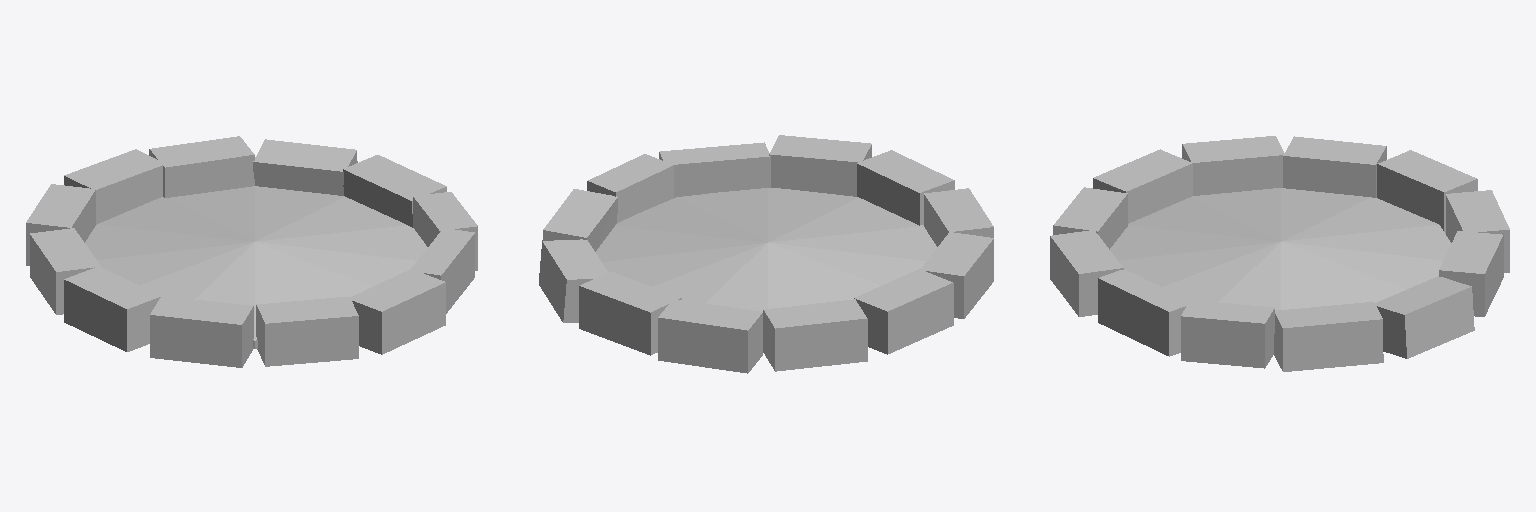
Rendered from BuildSlot.obj.
3 renders of one model, left to right at view 1: azimuth 30°, elevation 25°; view 2: azimuth 150°, elevation 25°; view 3: azimuth 270°, elevation 25°, orthographic.
Parts seen in each view (by area): view 1: BuildSlot; view 2: BuildSlot; view 3: BuildSlot.
Part boxes in pixels (x1,y1,x2,y2): BuildSlot: (26,136,477,367); BuildSlot: (539,135,993,373); BuildSlot: (1050,136,1509,371).
Bounding box in the file's own units: 2.45 × 0.3087 × 2.52.